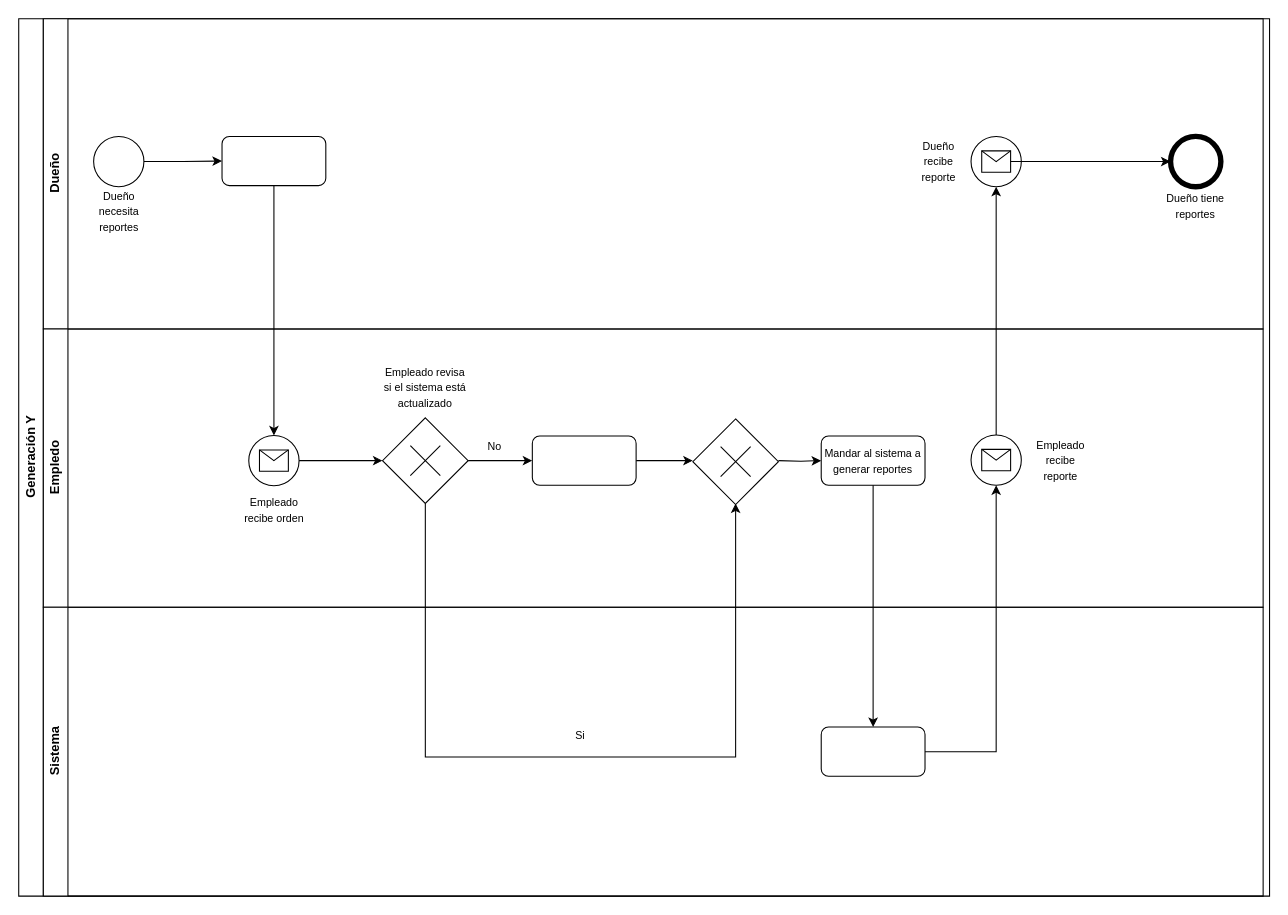
Some shapes in this 1288 by 915 pixel diagram are drawn without their labels. Here are the shapes that lost their labels. From the top down, the box of each, then its label:
(221, 135, 326, 186): Pedir reportes al empleado
(531, 435, 636, 485): Actualización manual
(820, 726, 925, 776): Sistema genera reportes
